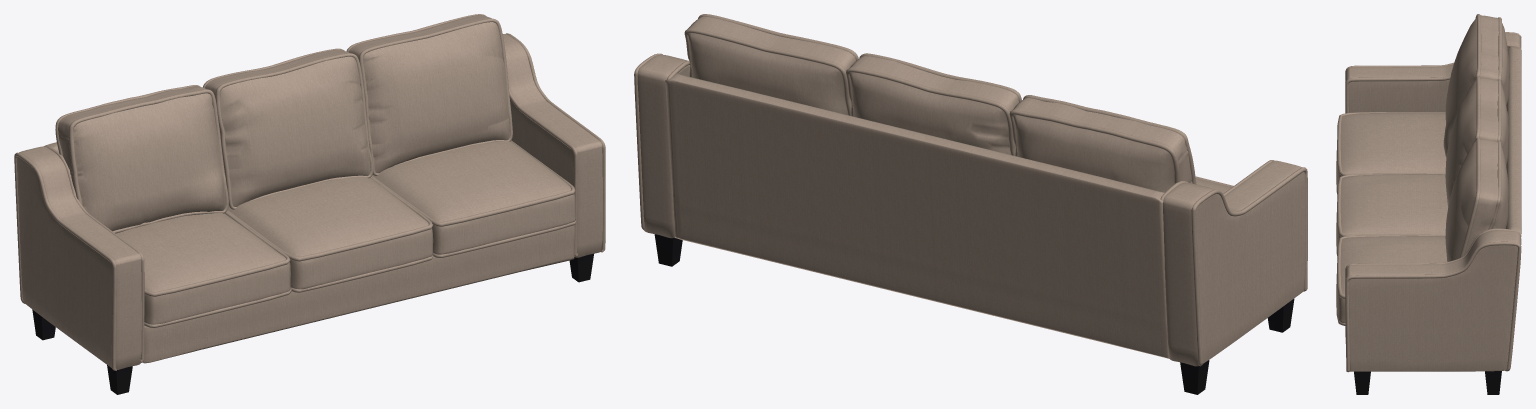
File: sofa_B07B4M2QSW.glb
3 views of the same model, side by side, from view 1: azimuth 30°, elevation 25°; view 2: azimuth 150°, elevation 25°; view 3: azimuth 270°, elevation 25° (orthographic). The views are drawn at different scales.
Visible parts, largest first — view 1: RootNode; view 2: RootNode; view 3: RootNode.
Part boxes in pixels (left/top/right/bottom): RootNode: left=14, top=14, right=605, bottom=394; RootNode: left=634, top=14, right=1307, bottom=394; RootNode: left=1336, top=14, right=1521, bottom=394.
Size of the model in its own units: 2.13 by 0.9016 by 0.7909.
Materials: 1 (1 with a texture image).
